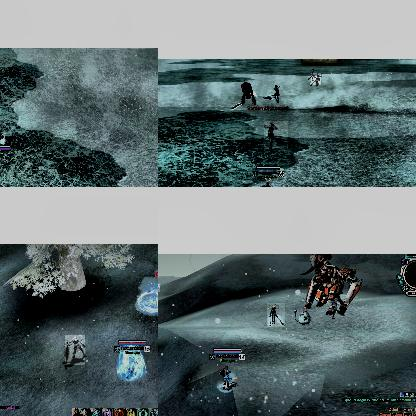caliana: (264, 121, 288, 149), (65, 335, 85, 365), (267, 303, 285, 327), (263, 82, 281, 102), (311, 73, 321, 85), (0, 132, 5, 145), (310, 68, 314, 78), (158, 283, 160, 292)
